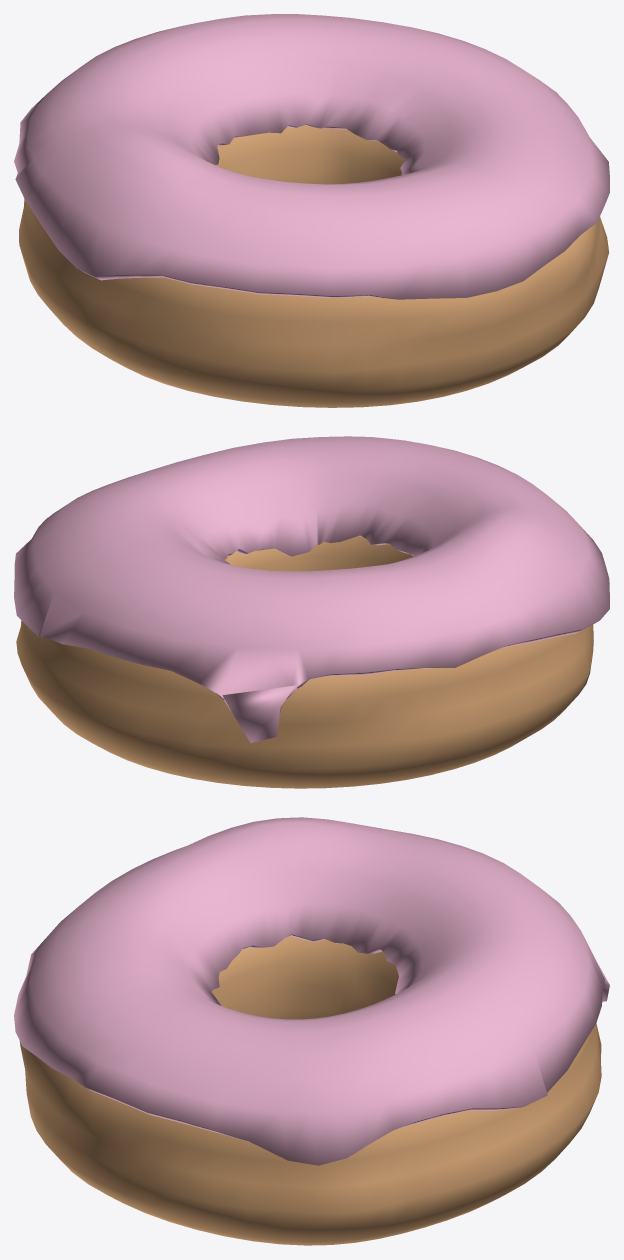
Rendered from donut.gltf.
3 renders of one model, top to bottom at view 1: azimuth 30°, elevation 25°; view 2: azimuth 150°, elevation 25°; view 3: azimuth 270°, elevation 25°, orthographic. The views are drawn at different scales.
Parts seen in each view (by area): view 1: Icing, Donut; view 2: Icing, Donut; view 3: Icing, Donut.
Part boxes in pixels (x1,y1,x2,y2): Icing: (14, 14, 609, 299); Donut: (19, 125, 609, 407); Icing: (14, 436, 609, 742); Donut: (16, 536, 593, 788); Icing: (14, 817, 609, 1165); Donut: (19, 936, 601, 1245).
Size of what is drawn, in the model's own units: 0.1551 by 0.0636 by 0.147.
